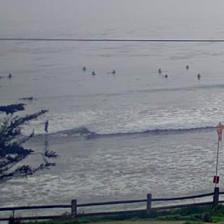surfer: (22, 96, 34, 100), (91, 70, 96, 76), (197, 73, 201, 80), (82, 66, 86, 72), (164, 74, 168, 79), (112, 69, 116, 74), (8, 73, 12, 78), (158, 68, 161, 74), (186, 65, 189, 70)
